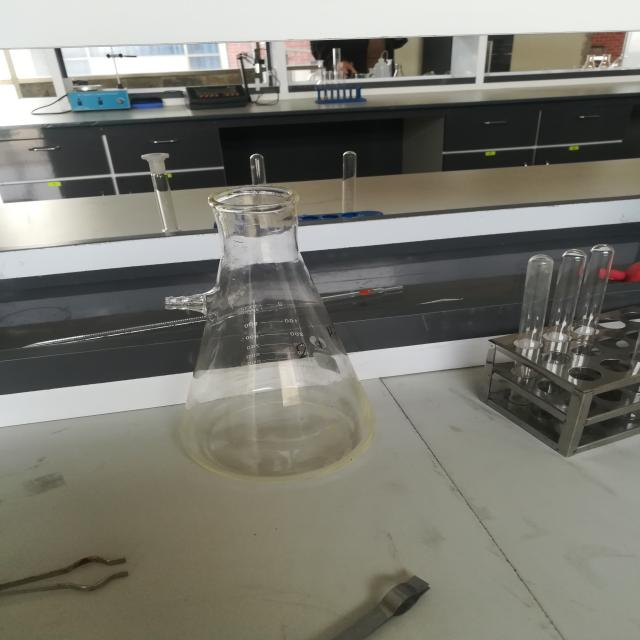Conical_Flask: (134, 167, 394, 511)
TestTube_Holder: (0, 529, 170, 624), (282, 573, 476, 640)
